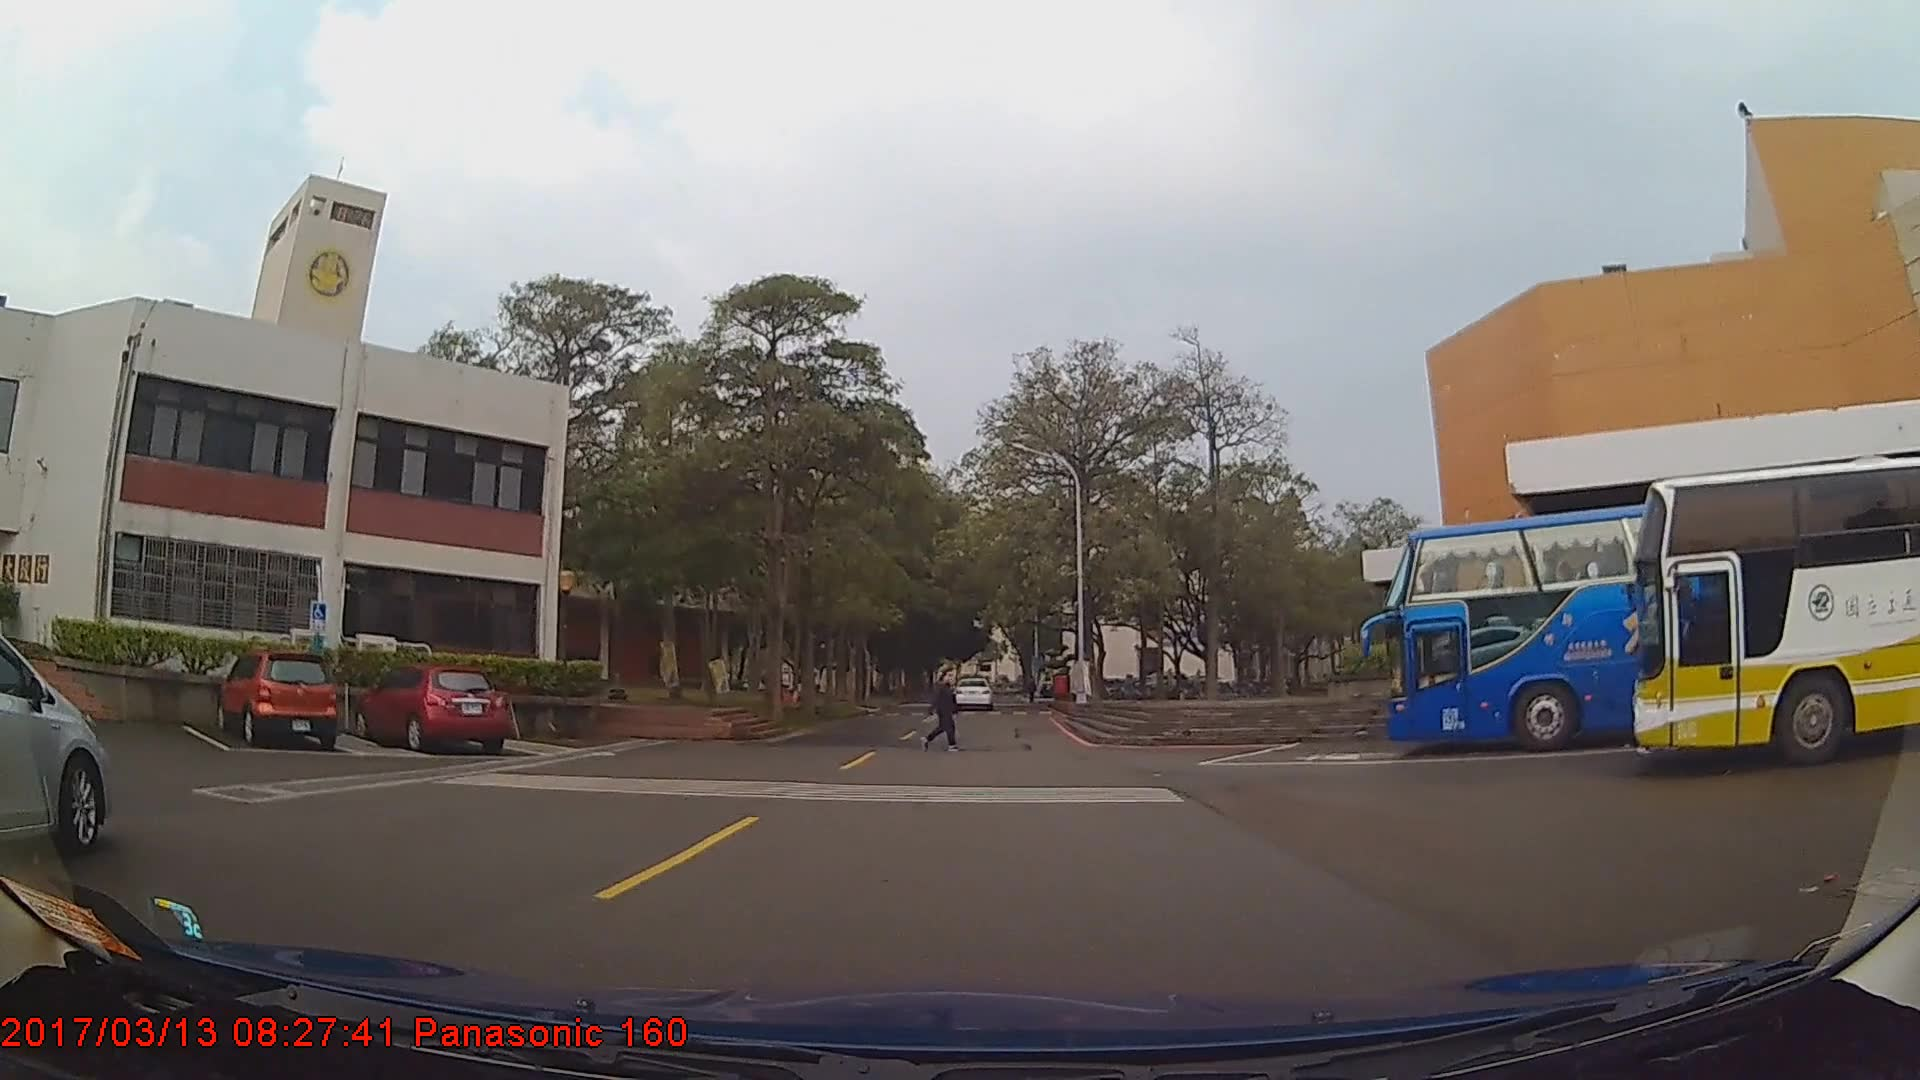pedestrian: (926, 666, 962, 751)
vehicle: (1389, 480, 1920, 753), (1634, 451, 1920, 767), (0, 638, 111, 857), (350, 665, 506, 753), (212, 650, 337, 752), (951, 675, 995, 711)
